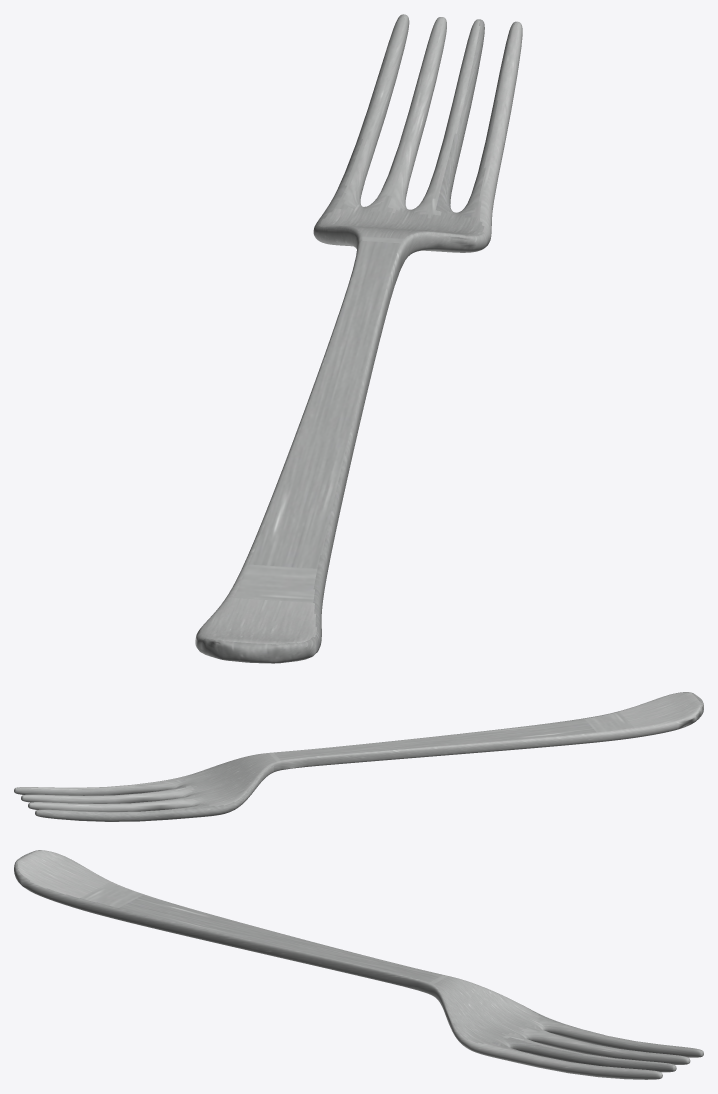
File: fork.fbx
3 renders of one model, top to bottom at view 1: azimuth 30°, elevation 25°; view 2: azimuth 150°, elevation 25°; view 3: azimuth 270°, elevation 25°, orthographic. The views are drawn at different scales.
Visible parts, largest first — view 1: Fork; view 2: Fork; view 3: Fork.
Boxes of the visible parts, box(x1,y1,x2,y2) form: Fork: box(195, 14, 522, 663); Fork: box(14, 692, 703, 821); Fork: box(14, 850, 703, 1079).
Size of the model in its own units: 88.58 by 6.35 by 108.
